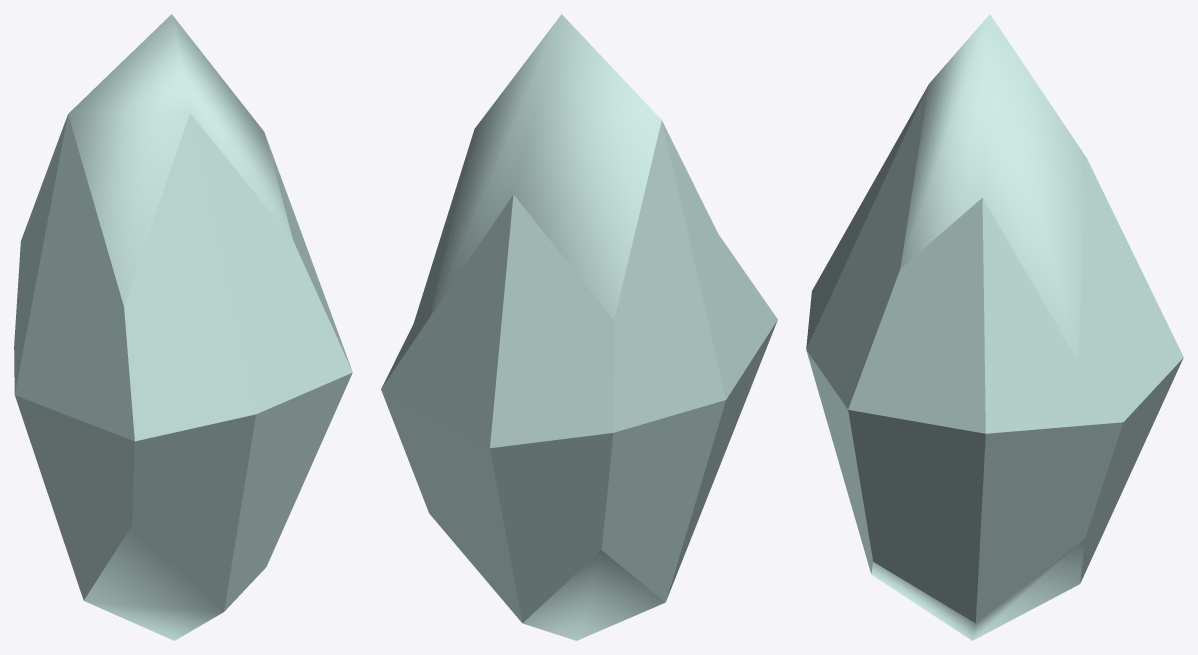
File: Medium.fbx
3 views of the same model, side by side, from view 1: azimuth 30°, elevation 25°; view 2: azimuth 150°, elevation 25°; view 3: azimuth 270°, elevation 25° (orthographic). The views are drawn at different scales.
Visible parts, largest first — view 1: Medium; view 2: Medium; view 3: Medium.
Part boxes in pixels (bbox=[...]): Medium: bbox=[14, 14, 352, 640]; Medium: bbox=[381, 14, 777, 640]; Medium: bbox=[806, 14, 1183, 640].
Size of the model in its own units: 2.05 by 3.96 by 2.15.
